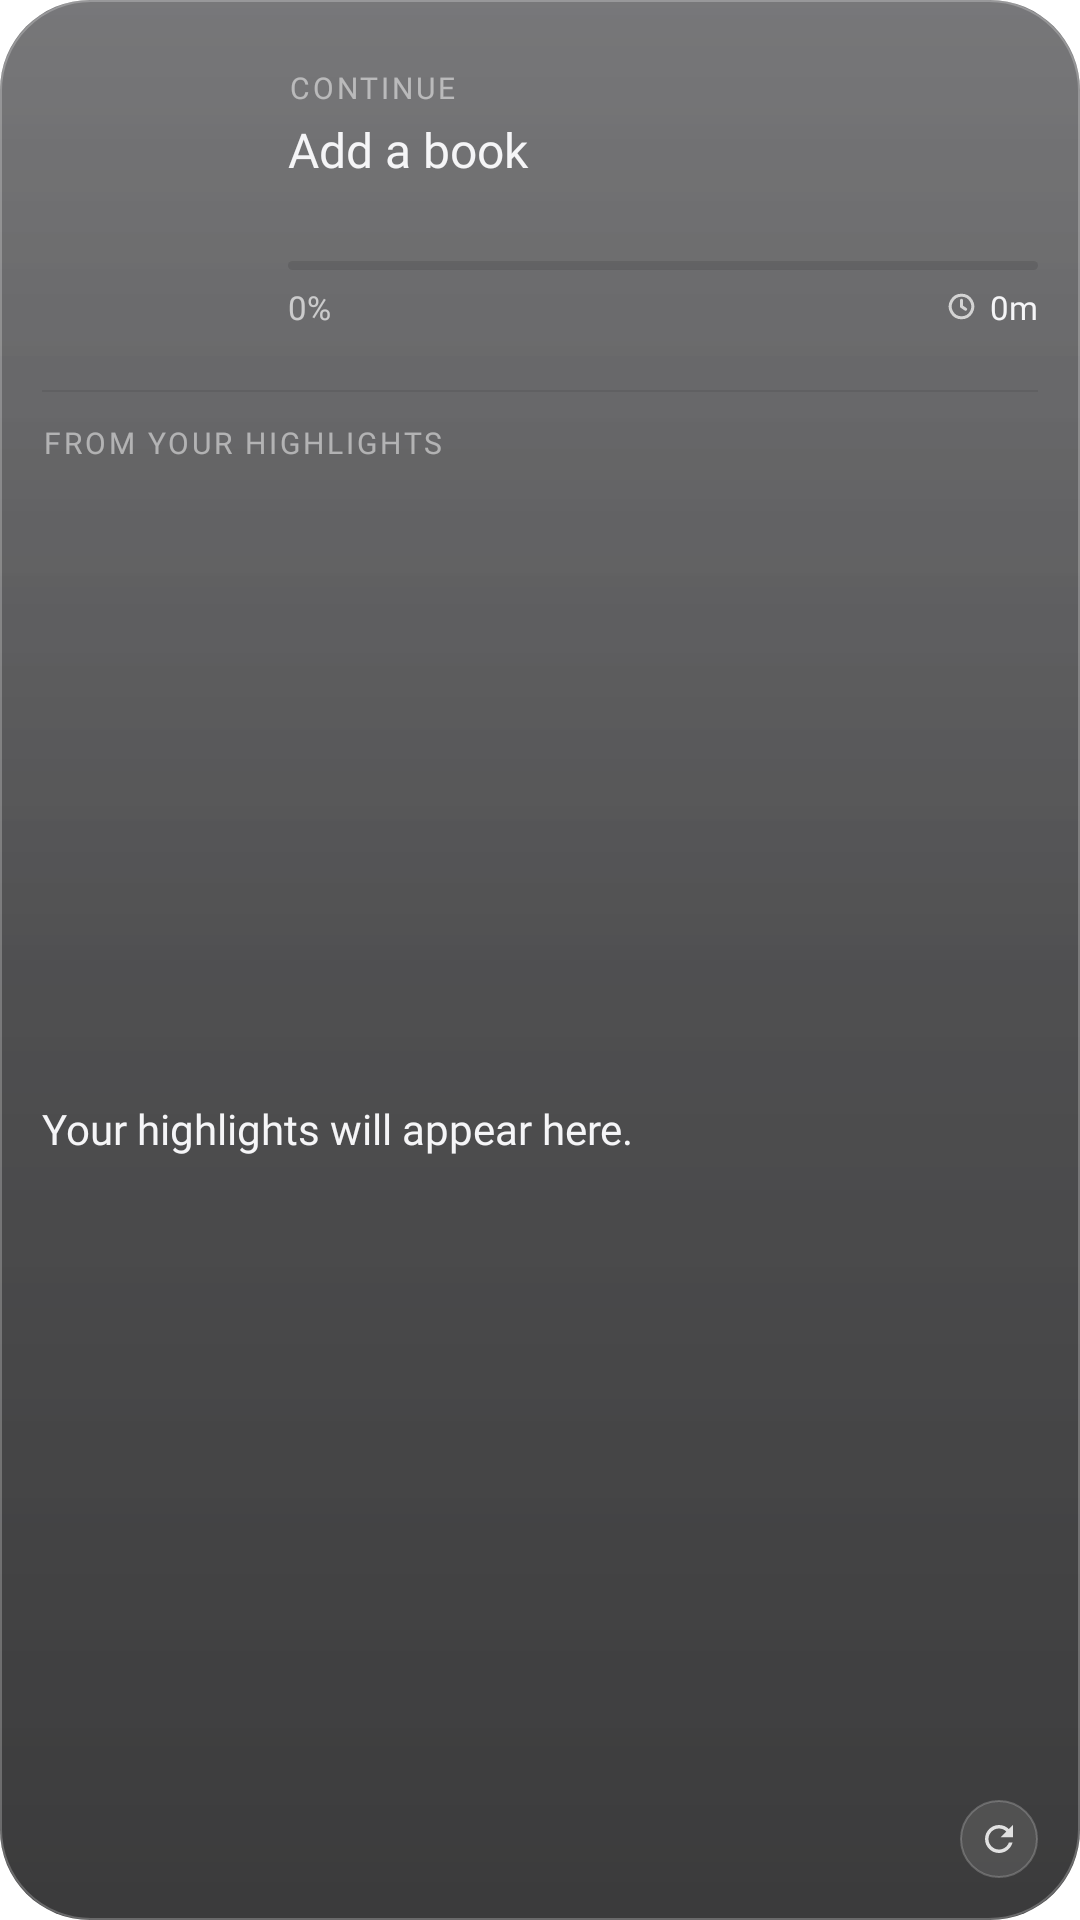

Named icons in this screenshot (1080 × 1920) and their bounding boxes, (x1, y1, x2, y2):
clock: (948, 293, 975, 320)
refresh: (960, 1800, 1038, 1878)
